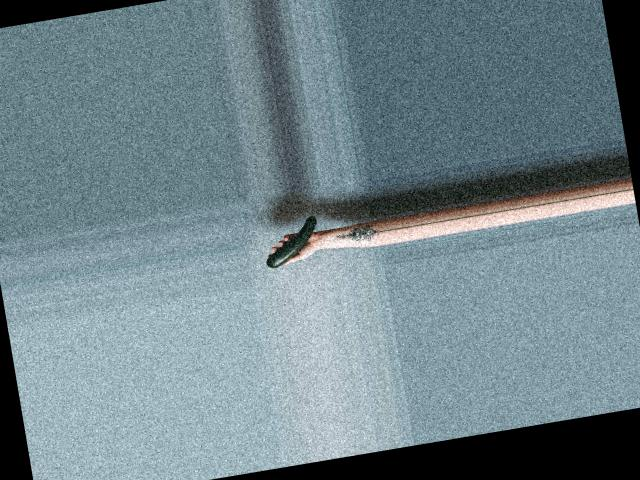cucumber: (259, 214, 322, 268)
